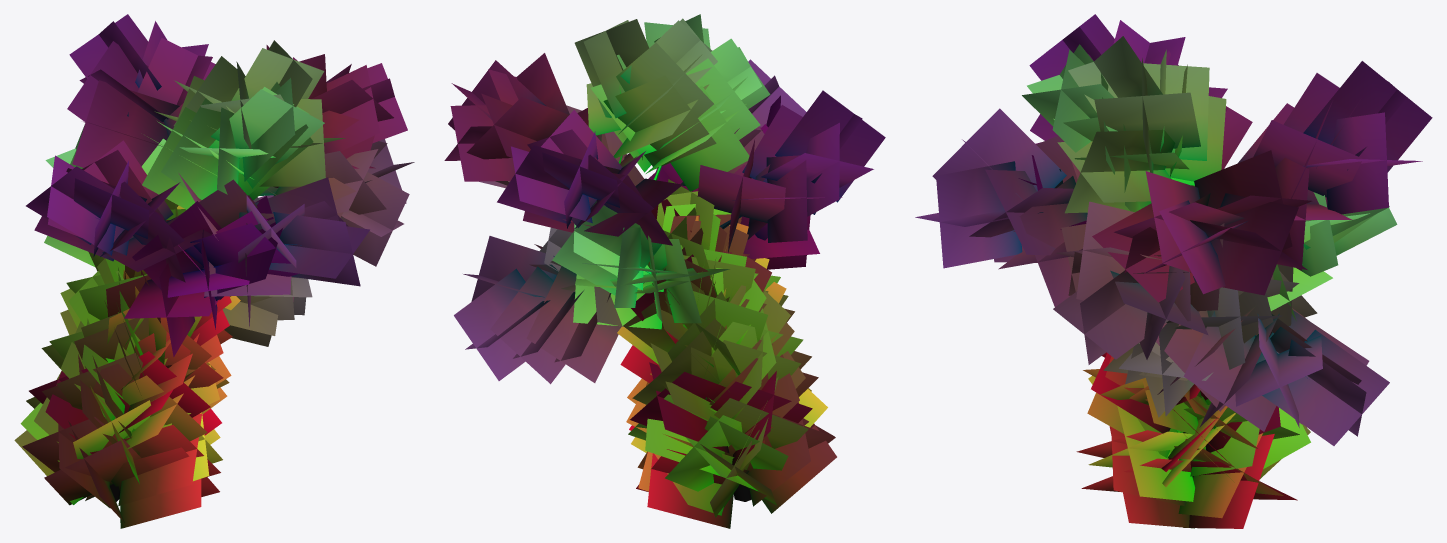
Rendered from URP_P3_Tree_13_LOD_3.fbx.
3 renders of one model, left to right at view 1: azimuth 30°, elevation 25°; view 2: azimuth 150°, elevation 25°; view 3: azimuth 270°, elevation 25°, orthographic. The views are drawn at different scales.
Parts seen in each view (by area): view 1: Tree_13_LOD_3; view 2: Tree_13_LOD_3; view 3: Tree_13_LOD_3.
Part boxes in pixels (bbox=[...]): Tree_13_LOD_3: bbox=[14, 14, 414, 528]; Tree_13_LOD_3: bbox=[444, 14, 885, 528]; Tree_13_LOD_3: bbox=[915, 14, 1432, 528].
Bounding box in the file's own units: 567 × 636 × 564.
